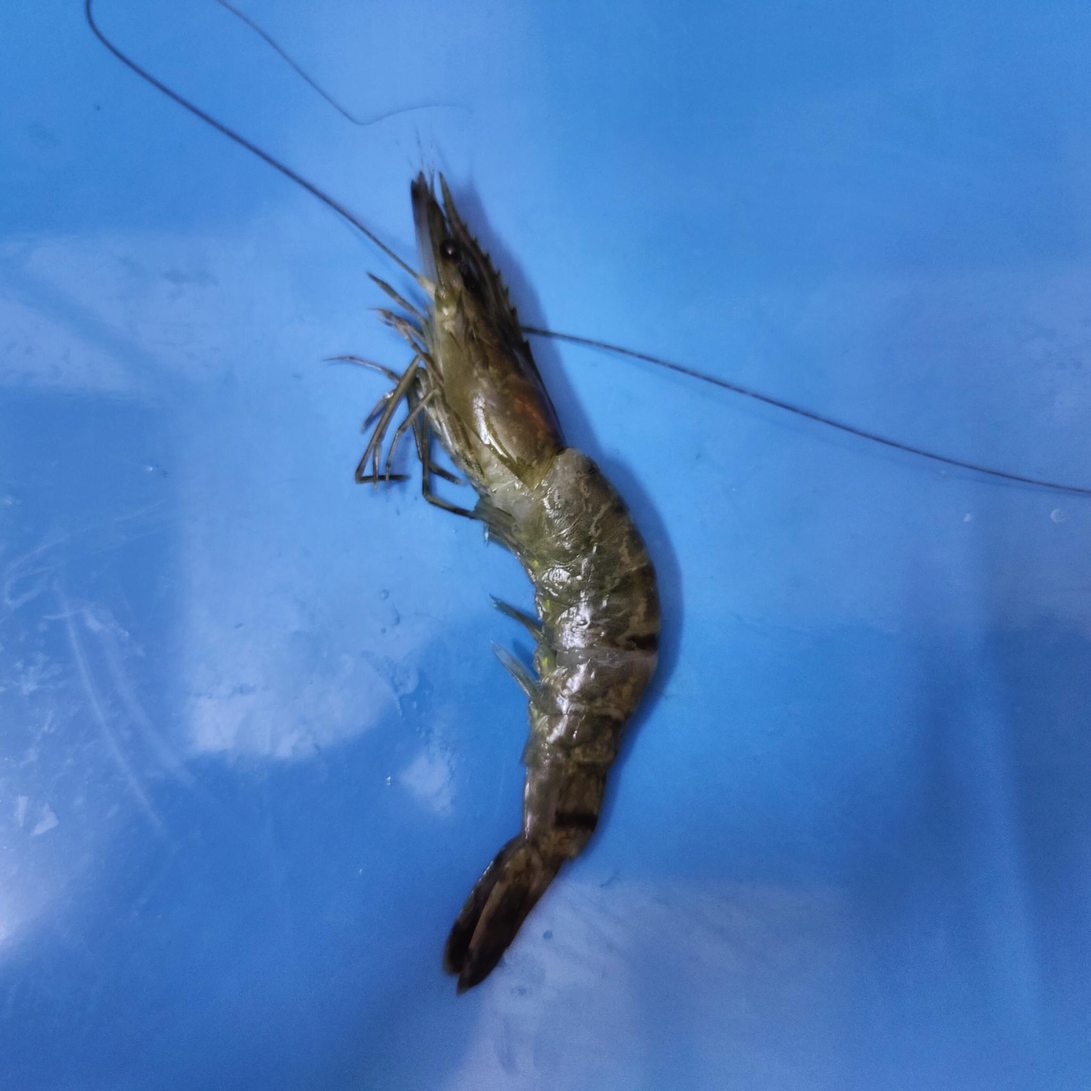whitespot: (562, 724, 613, 781), (558, 454, 597, 518), (470, 352, 513, 399), (625, 591, 651, 633), (611, 526, 636, 566)
